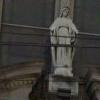Statue: (41, 5, 87, 88)
